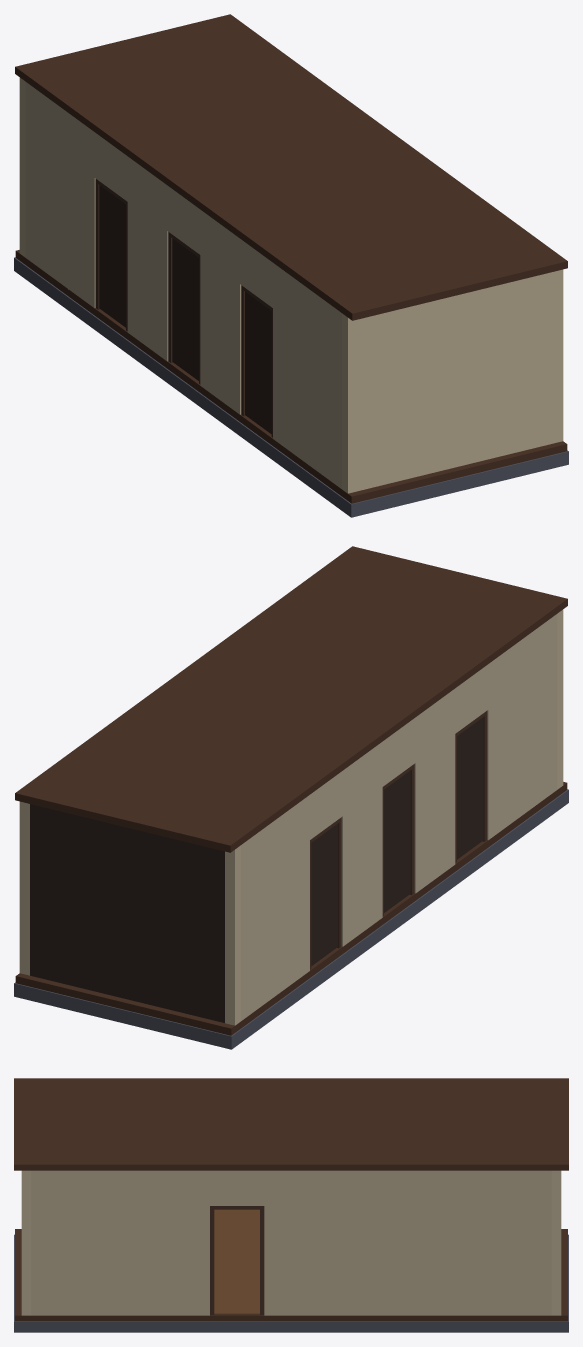
File: corridor.glb
3 renders of one model, top to bottom at view 1: azimuth 30°, elevation 25°; view 2: azimuth 150°, elevation 25°; view 3: azimuth 270°, elevation 25°, orthographic. The views are drawn at different scales.
Parts seen in each view (by area): view 1: Corridor_Voxels; view 2: Corridor_Voxels; view 3: Corridor_Voxels.
Boxes of the visible parts, left/top/right/bottom form: Corridor_Voxels: left=14, top=14, right=568, bottom=517; Corridor_Voxels: left=14, top=546, right=568, bottom=1049; Corridor_Voxels: left=14, top=1078, right=568, bottom=1332.
Bounding box in the file's own units: 3.8 × 3.4 × 10.2.
